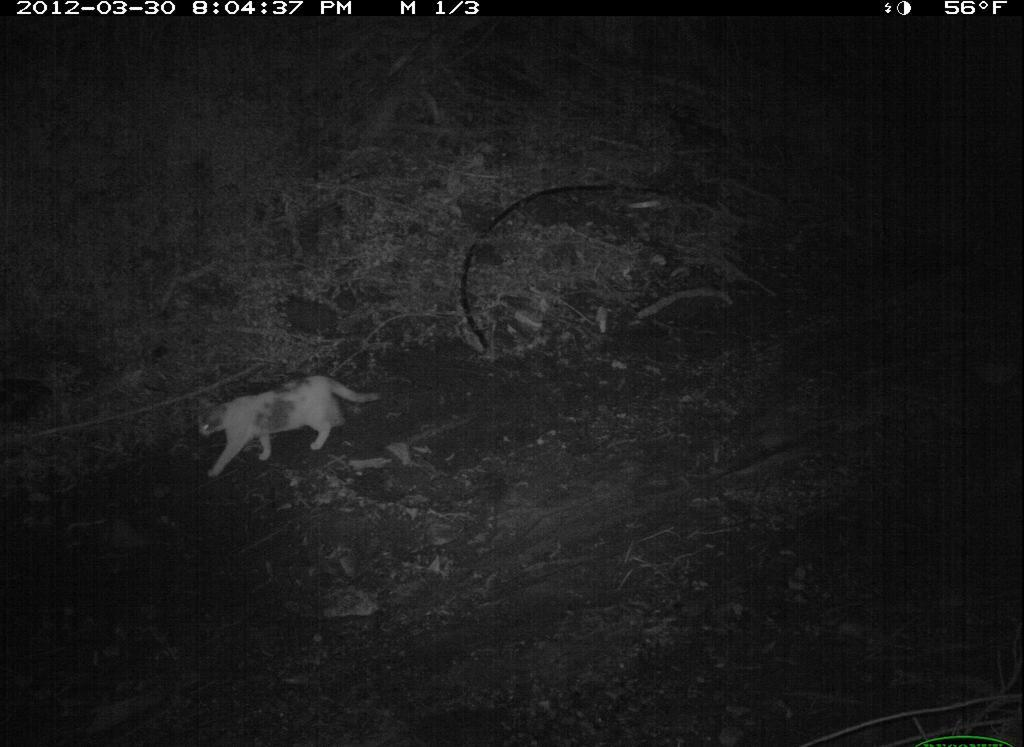cat: (194, 363, 395, 483)
